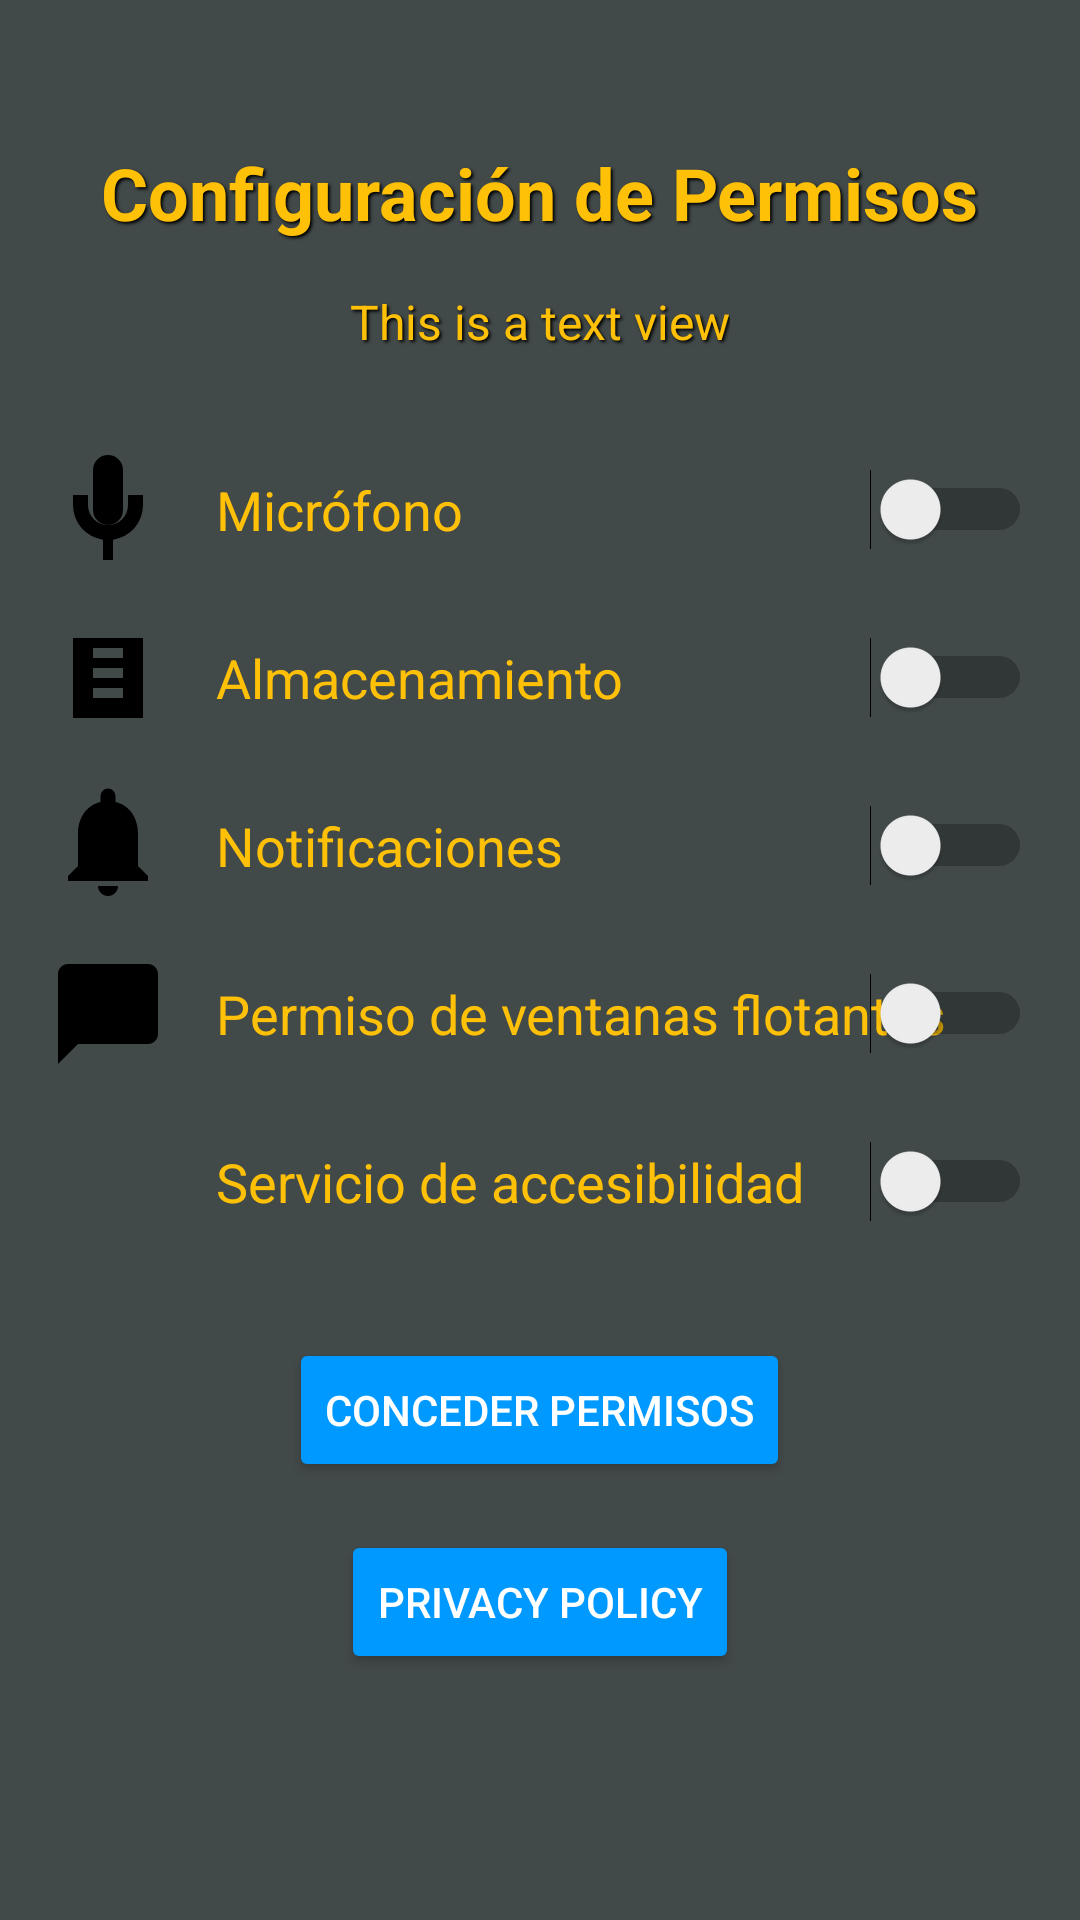

Icon click points for this 1080x1920 phone screenshot, format (x=x, y=y):
microphone: (x=108, y=507)
notifications: (x=108, y=842)
storage: (x=108, y=678)
